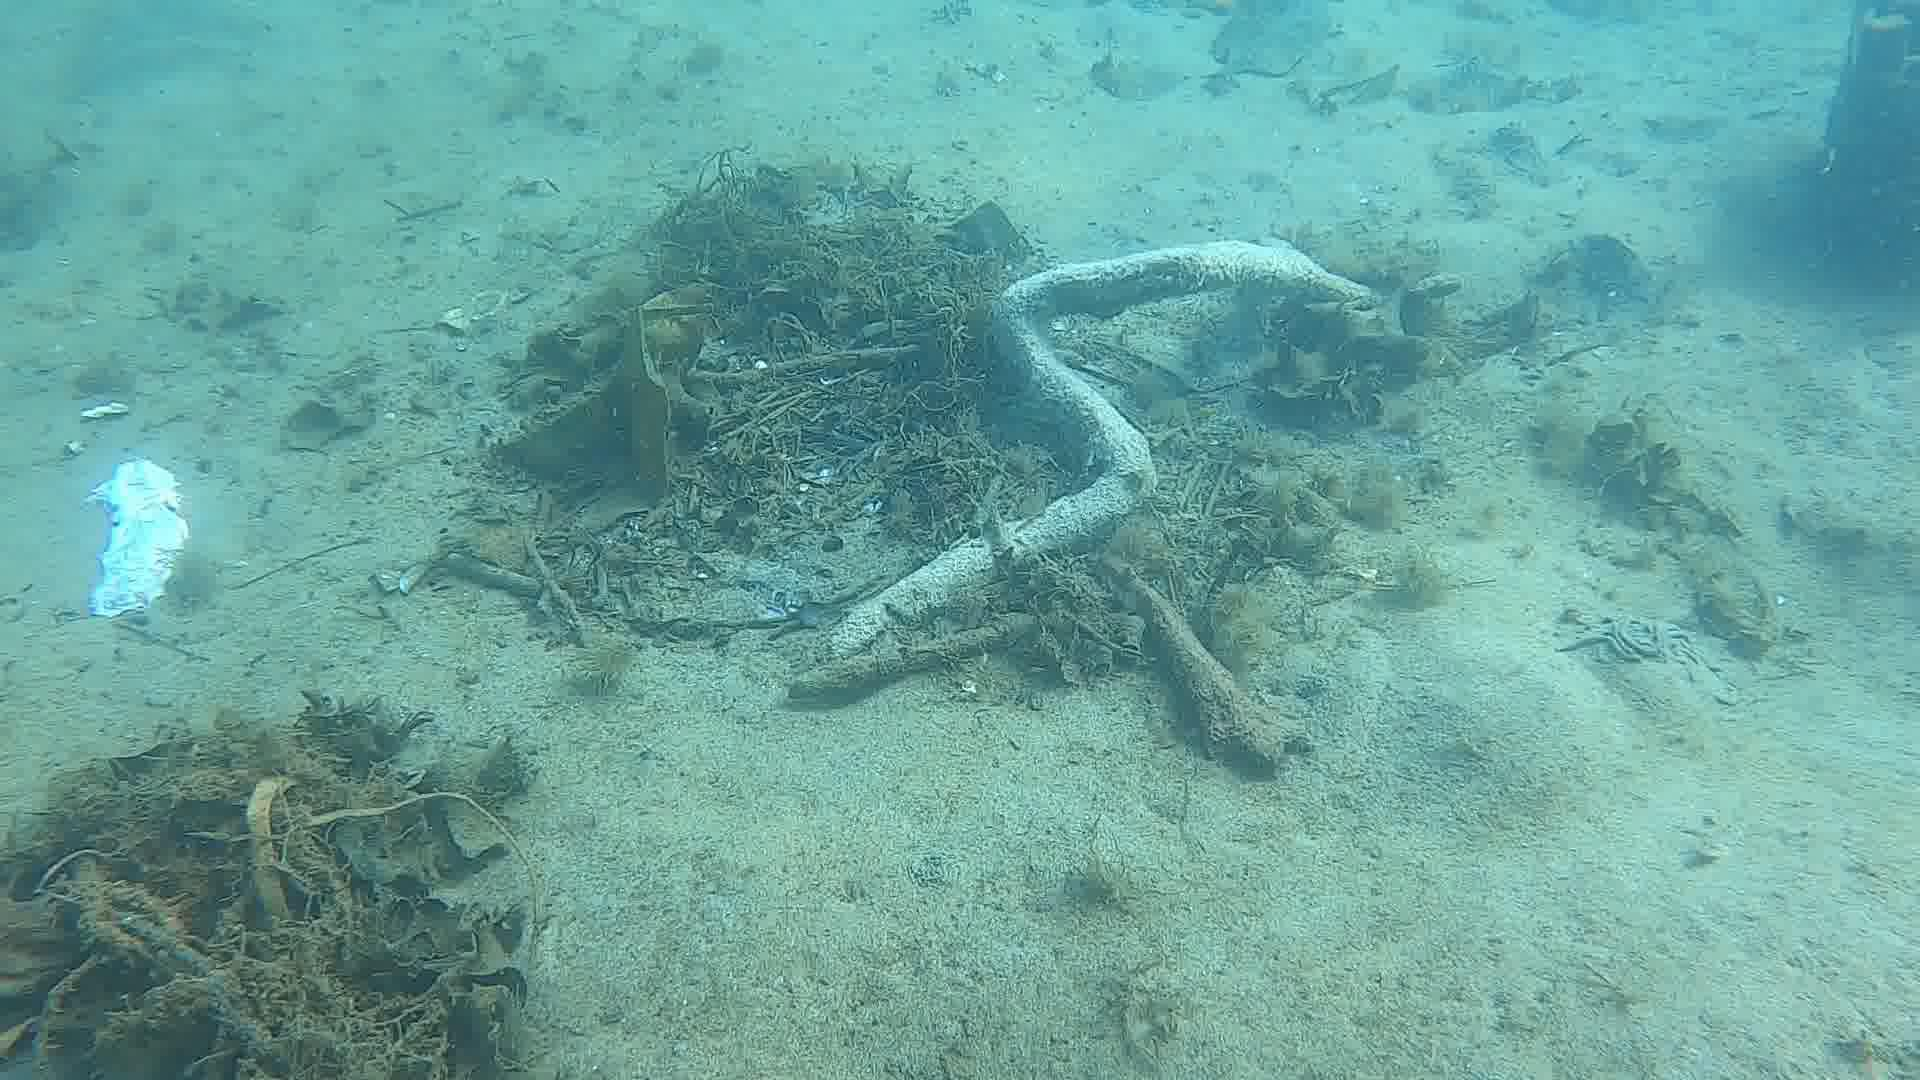wood: (833, 235, 1374, 655)
